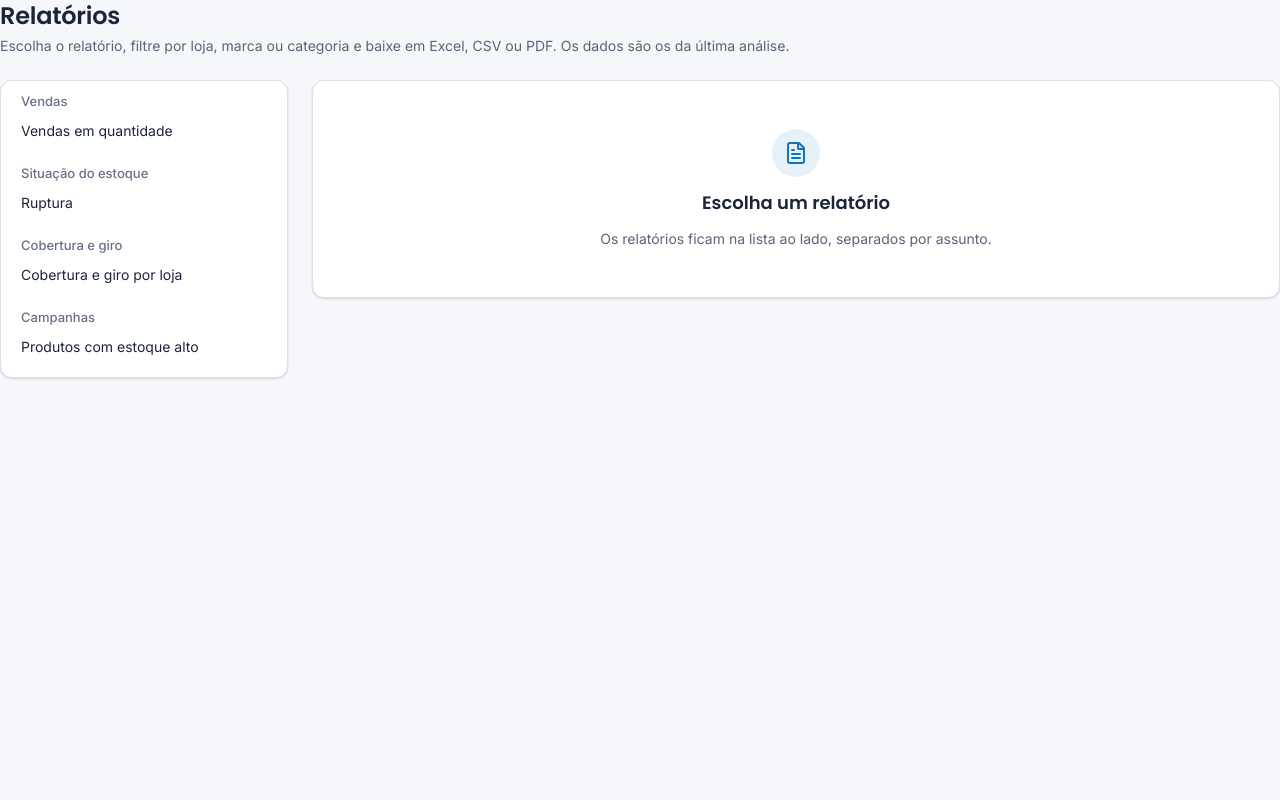
Scenario: Relatórios › vendas em quantidade mostram peças, lojas e produtos sem nenhum valor em R$
This screenshot has width=1280, height=800.
Step 1. Click the button "Vendas em quantidade" → (144, 131), box [13,113,275,149]
(page scrolled)
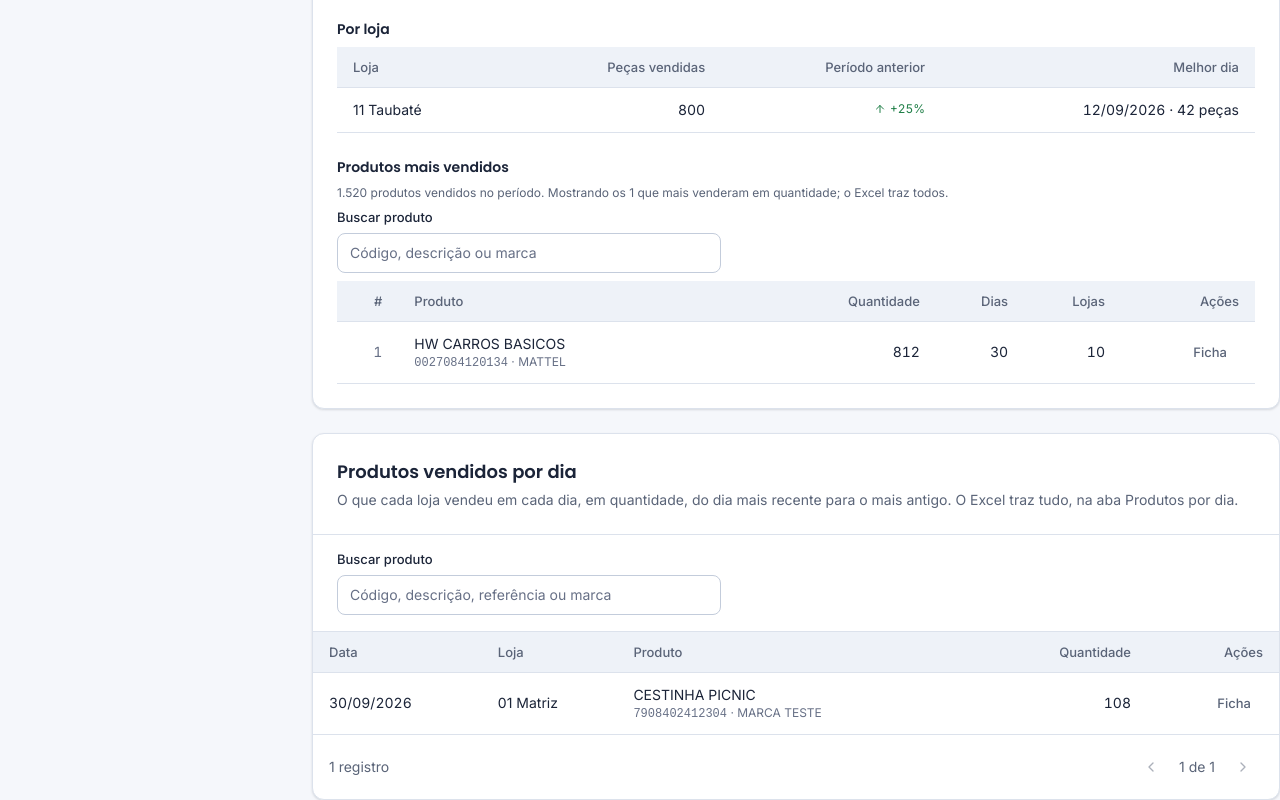
Expected: the text "+25%" is shown 2 times
Expected: the text "HW CARROS BASICOS" is shown, [414,335,565,352]
Expected: the text "CESTINHA PICNIC" is shown, [633,686,756,703]
